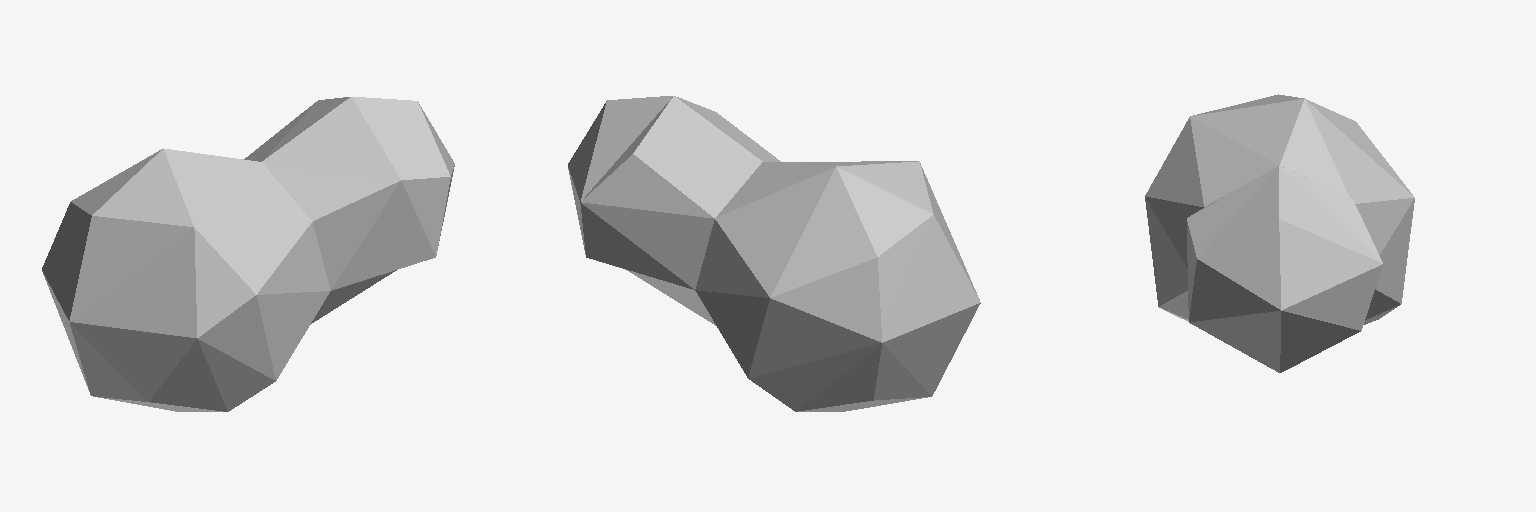
The picture shows the model from 3 angles: view 1: azimuth 30°, elevation 25°; view 2: azimuth 150°, elevation 25°; view 3: azimuth 270°, elevation 25°; orthographic projection.
Parts seen in each view (by area): view 1: Mball.002_Mesh; view 2: Mball.002_Mesh; view 3: Mball.002_Mesh.
Boxes of the visible parts, x1,y1,x2,y2 form: Mball.002_Mesh: [42, 97, 454, 411]; Mball.002_Mesh: [568, 96, 980, 411]; Mball.002_Mesh: [1145, 94, 1414, 372].
Bounding box in the file's own units: 24.23 × 15.86 × 14.19.